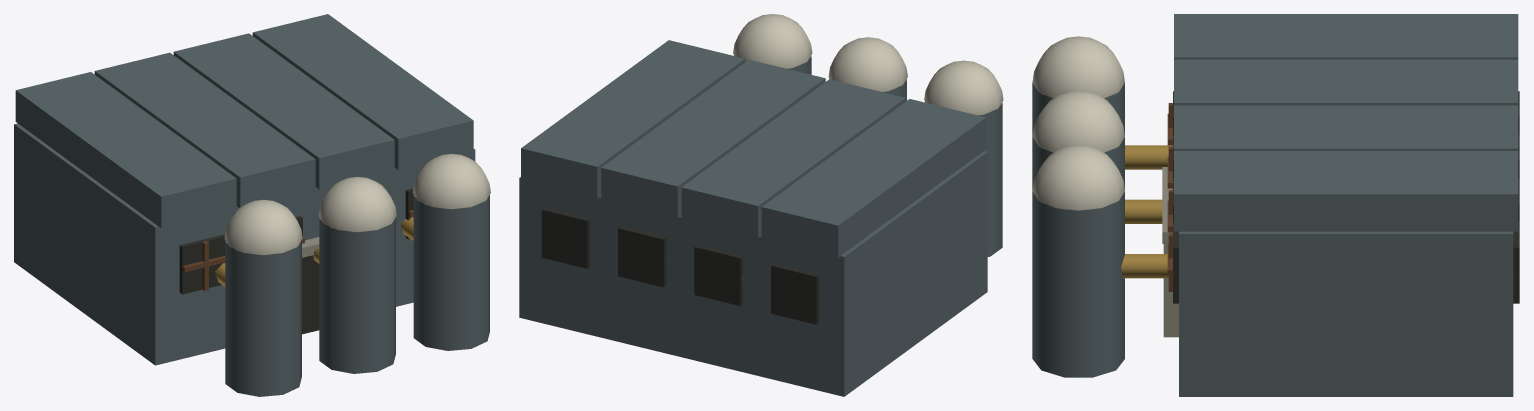
Rendered from custom-imp-refinery.glb.
The picture shows the model from 3 angles, left to right: view 1: azimuth 30°, elevation 25°; view 2: azimuth 150°, elevation 25°; view 3: azimuth 270°, elevation 25°; orthographic projection. The views are drawn at different scales.
Parts seen in each view (by area): view 1: custom-imp-refinery; view 2: custom-imp-refinery; view 3: custom-imp-refinery.
Part boxes in pixels (bbox=[...]): custom-imp-refinery: bbox=[14, 14, 490, 396]; custom-imp-refinery: bbox=[519, 14, 1003, 396]; custom-imp-refinery: bbox=[1032, 14, 1519, 396].
Bounding box in the file's own units: 0.8976 × 0.4752 × 1.
